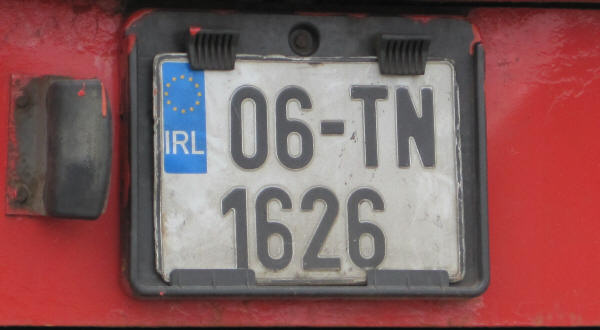license_plate: (153, 53, 463, 284)
